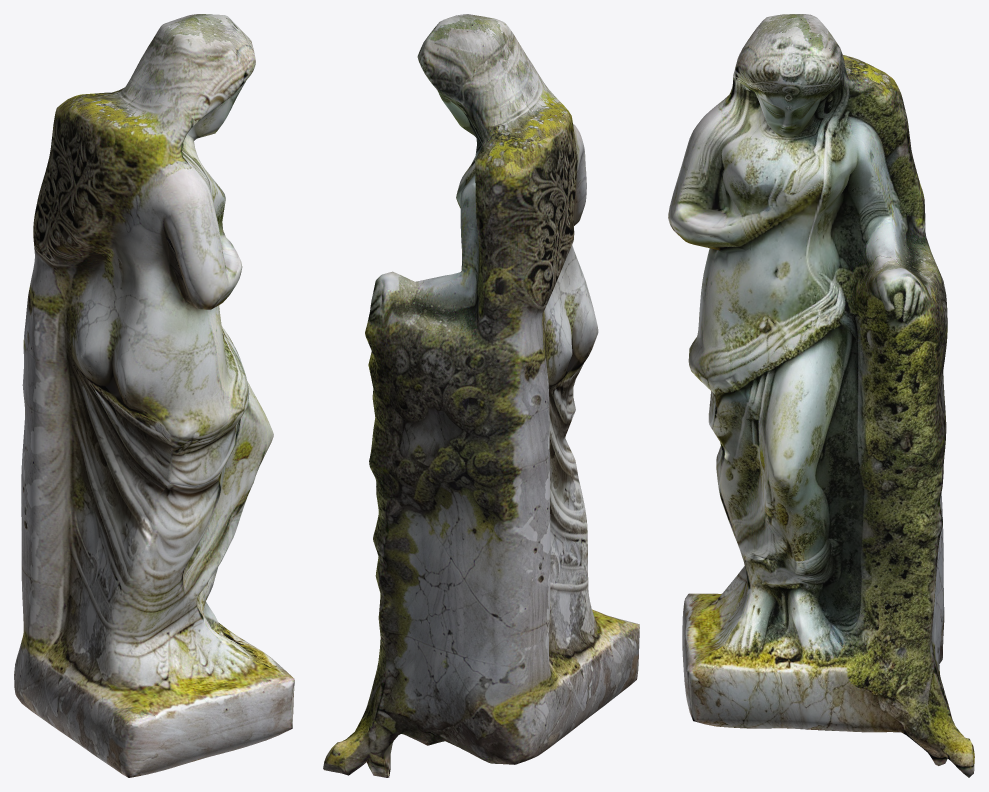
File: ancient_ruined_statue.glb
3 renders of one model, left to right at view 1: azimuth 30°, elevation 25°; view 2: azimuth 150°, elevation 25°; view 3: azimuth 270°, elevation 25°, orthographic. The views are drawn at different scales.
Bounding box in the file's own units: 0.3368 × 1.2 × 0.4543.
1 material, 1 textured.
